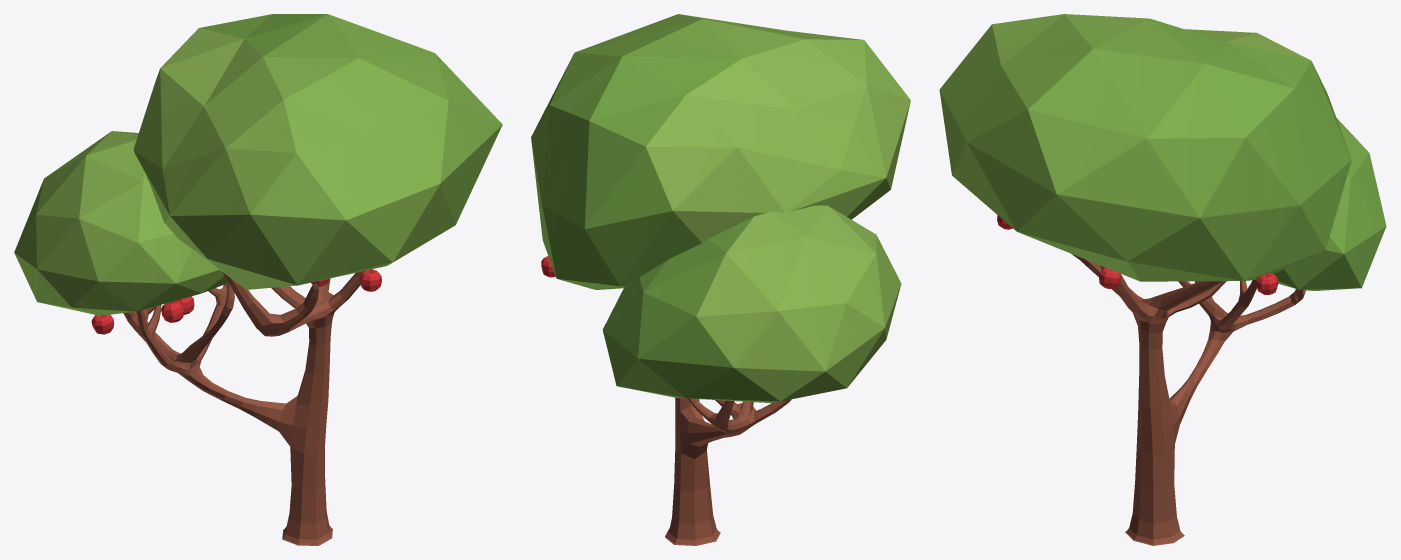
The model's file is Arvore de maça.fbx.
3 renders of one model, left to right at view 1: azimuth 30°, elevation 25°; view 2: azimuth 150°, elevation 25°; view 3: azimuth 270°, elevation 25°, orthographic.
Parts seen in each view (by area): view 1: Macieira.002; view 2: Macieira.002; view 3: Macieira.002.
Boxes of the visible parts, x1=… form: Macieira.002: x1=14, y1=14, x2=502, y2=545; Macieira.002: x1=531, y1=14, x2=910, y2=545; Macieira.002: x1=939, y1=14, x2=1386, y2=545.
Bounding box in the file's own units: 498 × 620 × 507.
